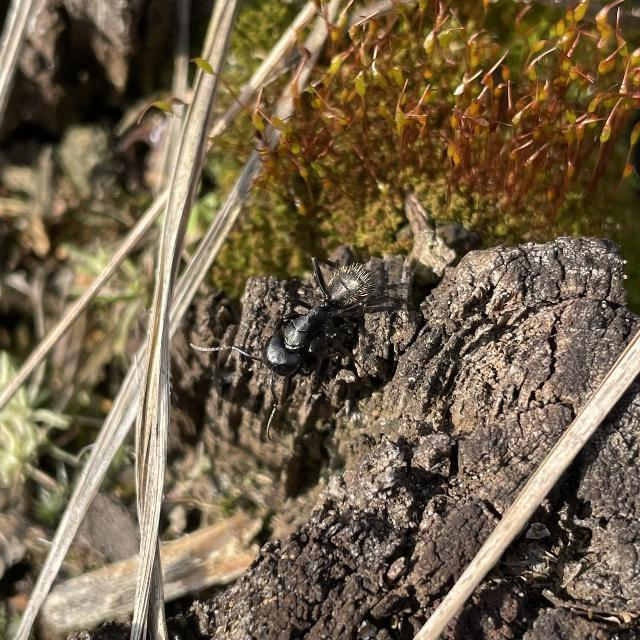Camponotus: (216, 233, 396, 395)
